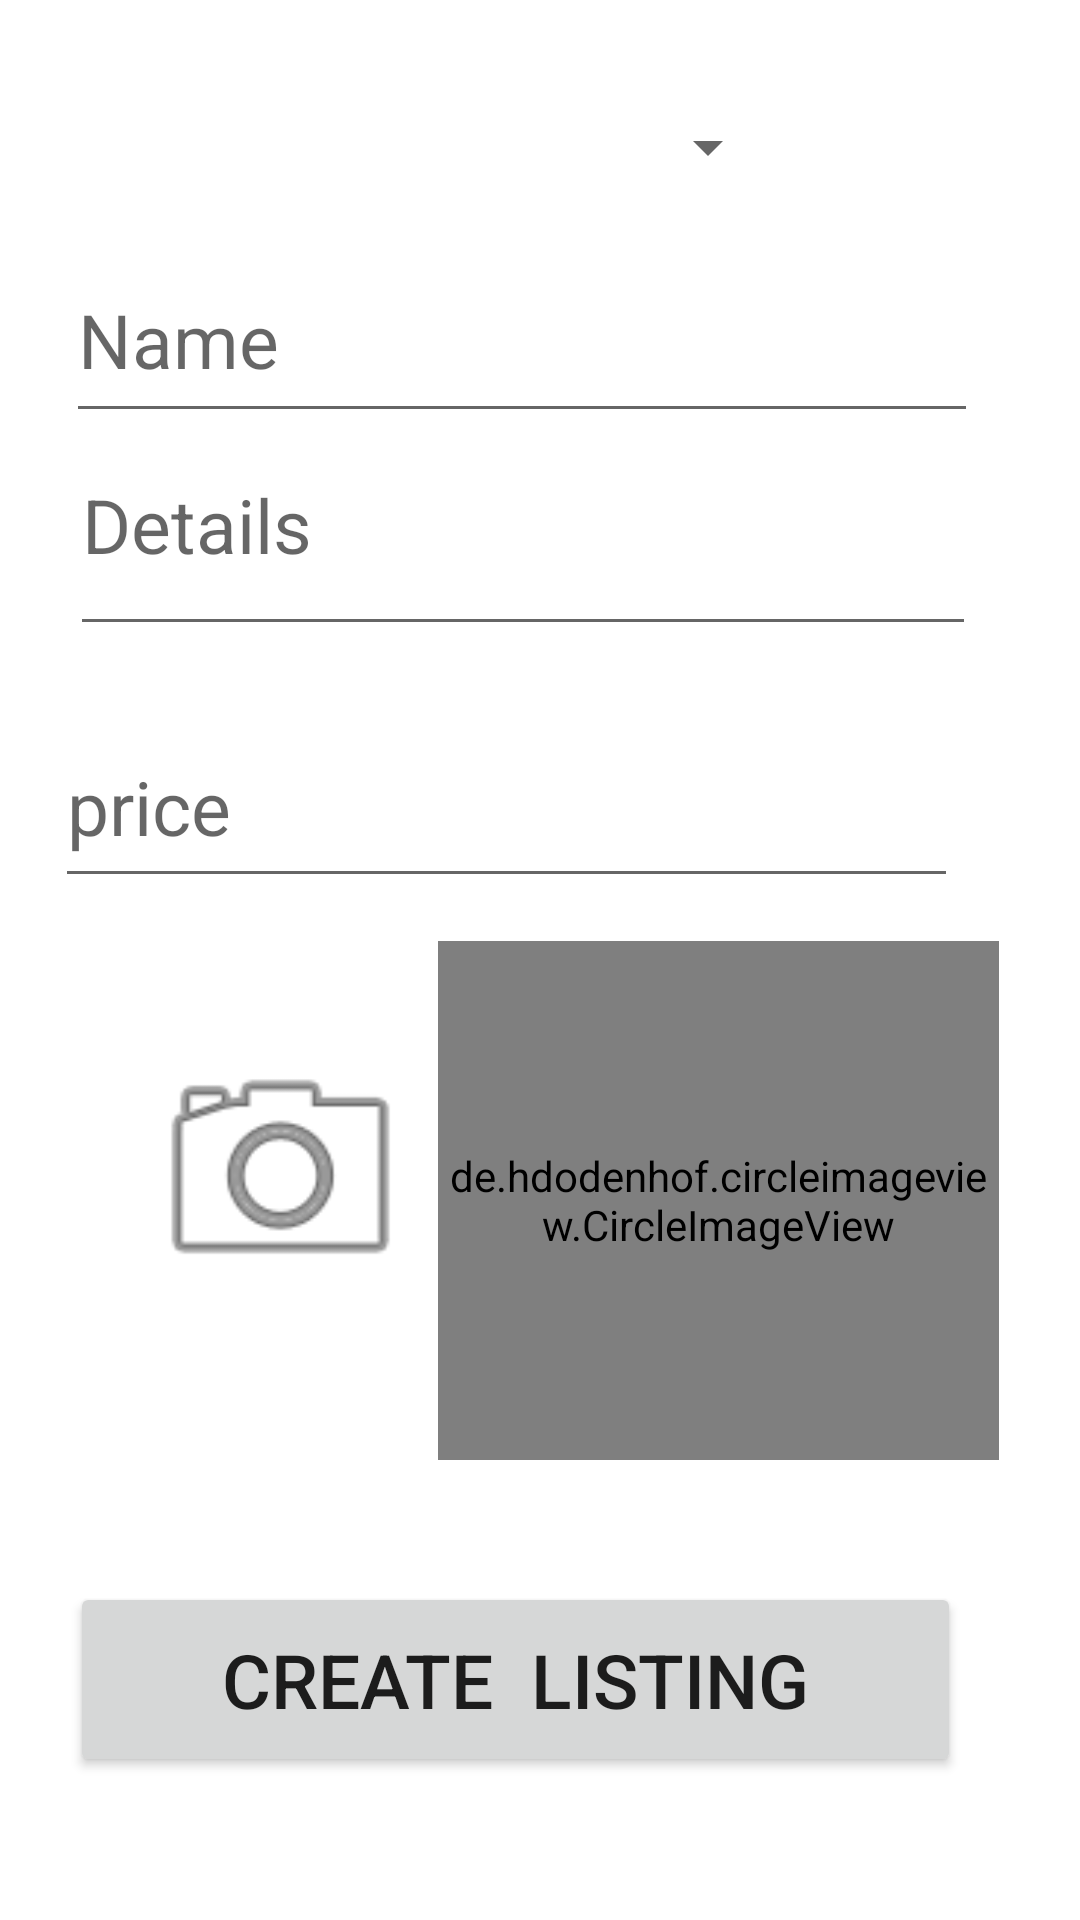

Named icons in this screenshot (1080px x 1920px) and their centers, (x=x, y=y):
camera: (x=280, y=1167)
